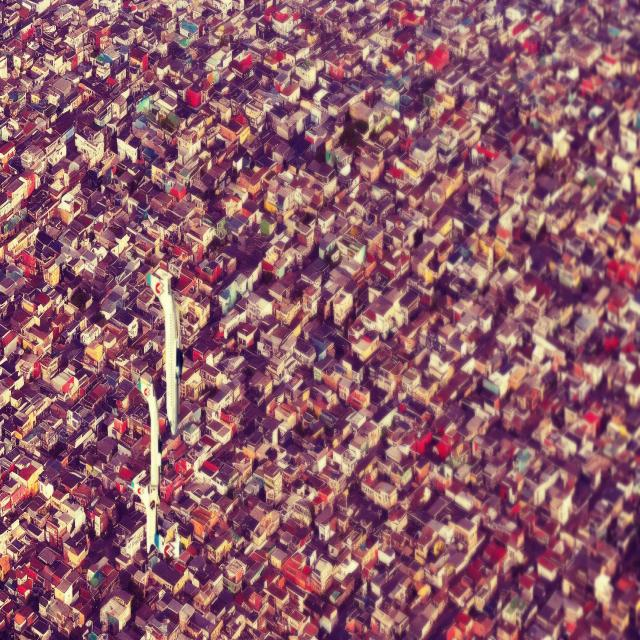airplane: (131, 380, 181, 558), (146, 271, 183, 436)
